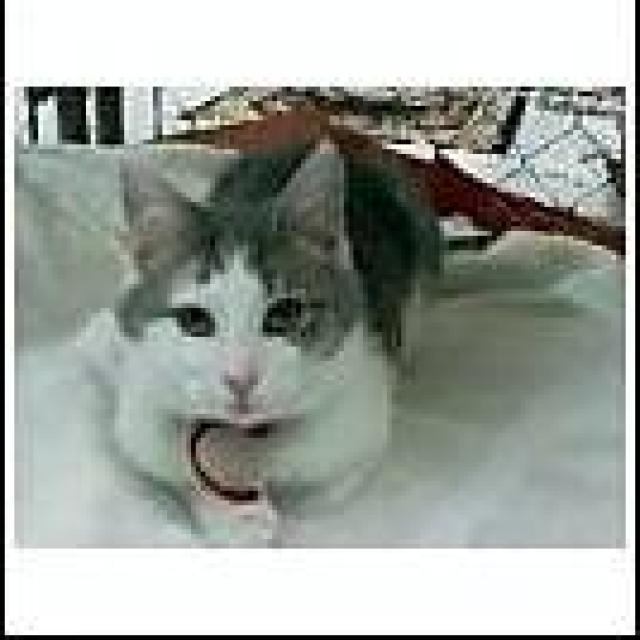cat: (67, 130, 439, 544)
